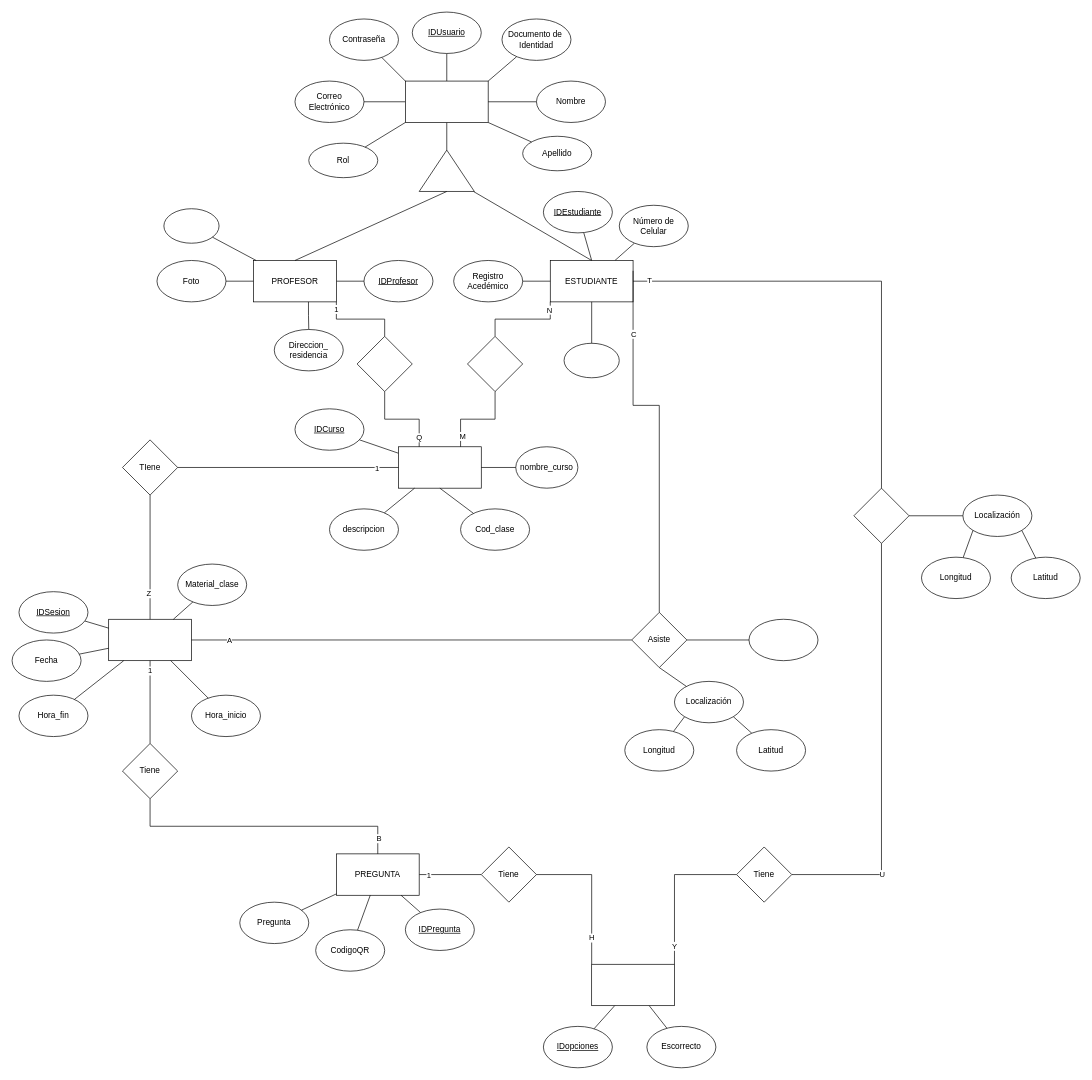
This 1092x1080 diagram has some shape labels left out. The box of each missing label's shape, as (x1, y1, x2, y2) in pixels:
CodEstudiante: (563, 343, 619, 378)
CodProfesor: (163, 208, 219, 243)
CURSO: (398, 446, 481, 488)
Elige: (853, 487, 909, 543)
Es un: (418, 149, 474, 191)
Fecha_hora: (748, 619, 818, 661)
Matricula: (467, 336, 523, 392)
OPCIONES: (591, 964, 674, 1006)
Programa: (356, 336, 412, 392)
SESION: (108, 619, 191, 661)
USUARIO: (405, 80, 488, 122)
